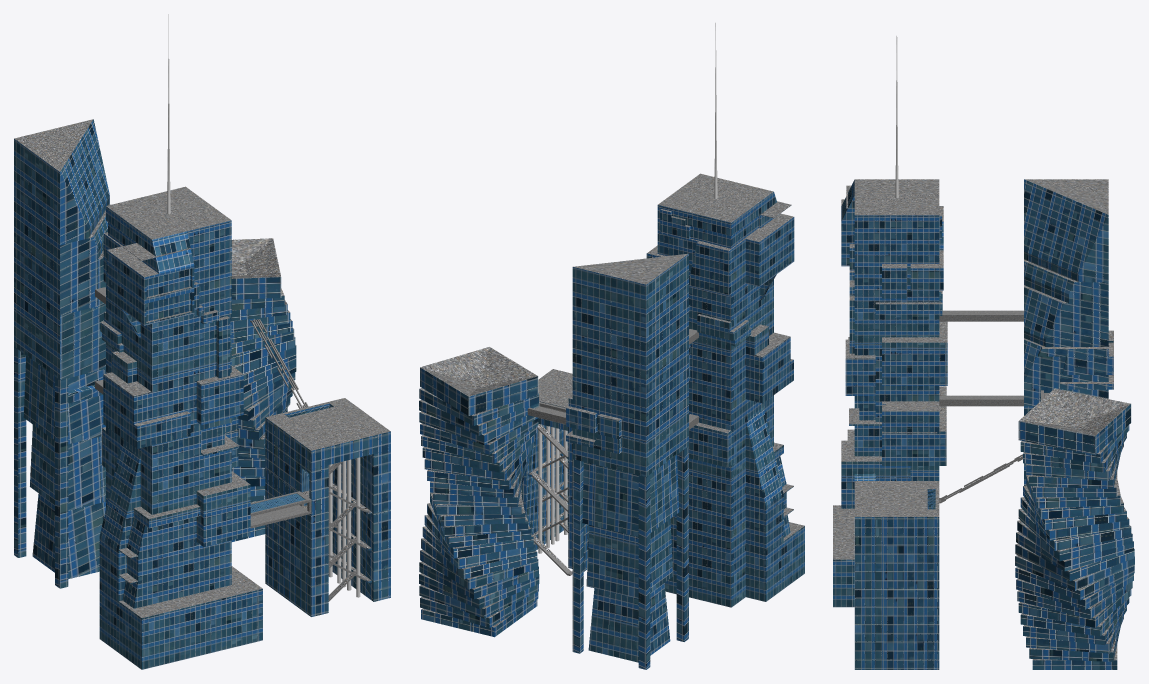
The model's file is terminal towers.glb.
3 renders of one model, left to right at view 1: azimuth 30°, elevation 25°; view 2: azimuth 150°, elevation 25°; view 3: azimuth 270°, elevation 25°, orthographic. The views are drawn at different scales.
Parts seen in each view (by area): view 1: T1 -col, T2 -col, T4 -col, T3 -col, Connector3 -col, T4.014 -col, Antenna.002 -col; view 2: T2 -col, T1 -col, T3 -col, T4 -col; view 3: T1 -col, T3 -col, T2 -col, T4 -col, Connector1.001 -col, Connector1 -col.
Part boxes in pixels (box(x1,y1,x2,y2)): T1 -col: box(99, 186, 262, 669); T2 -col: box(14, 119, 110, 588); T4 -col: box(265, 398, 390, 616); T3 -col: box(231, 238, 296, 541); Connector3 -col: box(250, 491, 311, 528); T4.014 -col: box(250, 319, 308, 408); Antenna.002 -col: box(356, 457, 360, 597); T2 -col: box(566, 253, 688, 669); T1 -col: box(646, 173, 804, 607); T3 -col: box(419, 347, 539, 637); T4 -col: box(521, 369, 589, 571); T1 -col: box(833, 179, 947, 607); T3 -col: box(1015, 388, 1134, 669); T2 -col: box(1024, 179, 1113, 485); T4 -col: box(854, 481, 939, 669); Connector1.001 -col: box(939, 395, 1023, 406); Connector1 -col: box(939, 310, 1023, 321).
Size of the model in its own units: 6.96 by 15.02 by 7.13.
3 materials, 2 textured.
